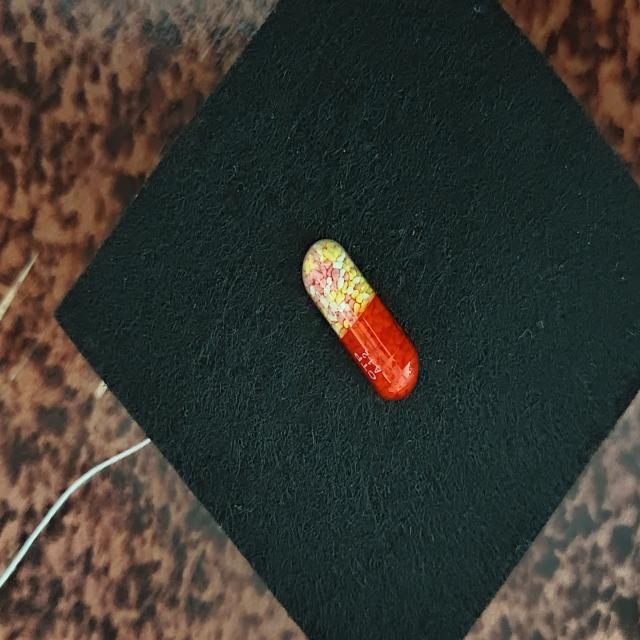Intact Capsule: (302, 239, 419, 400)
